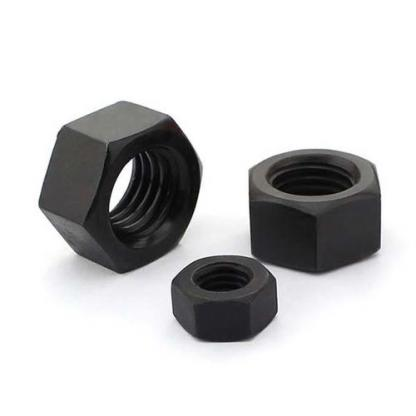FOD: (33, 98, 205, 276), (246, 146, 383, 274), (169, 254, 278, 344)
